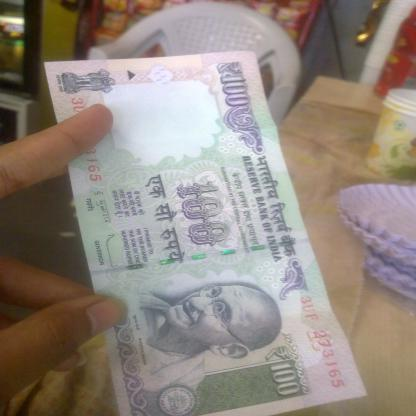Old100Front: (43, 49, 371, 415)
